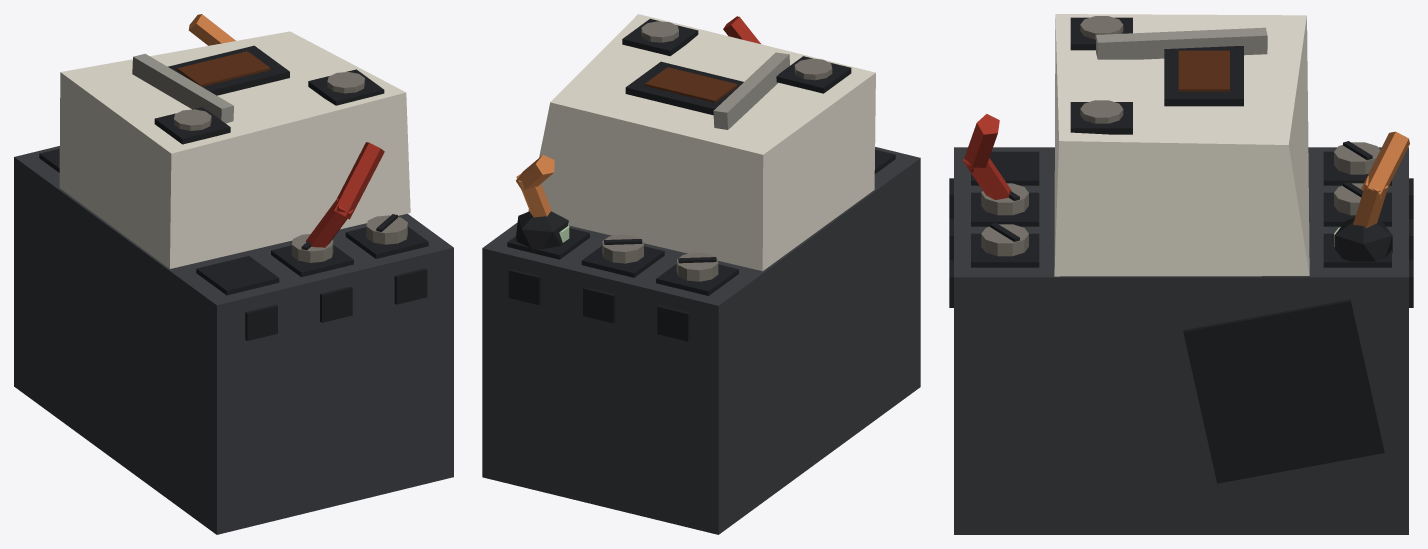
Rendered from relay_scrap.glb.
3 renders of one model, left to right at view 1: azimuth 30°, elevation 25°; view 2: azimuth 150°, elevation 25°; view 3: azimuth 270°, elevation 25°, orthographic. The views are drawn at different scales.
Parts seen in each view (by area): view 1: relay_scrap; view 2: relay_scrap; view 3: relay_scrap.
Boxes of the visible parts, left/top/right/bottom form: relay_scrap: left=14, top=14, right=453, bottom=534; relay_scrap: left=482, top=14, right=920, bottom=534; relay_scrap: left=949, top=14, right=1413, bottom=534.
Bounding box in the file's own units: 0.0549 × 0.0791 × 0.0816.
